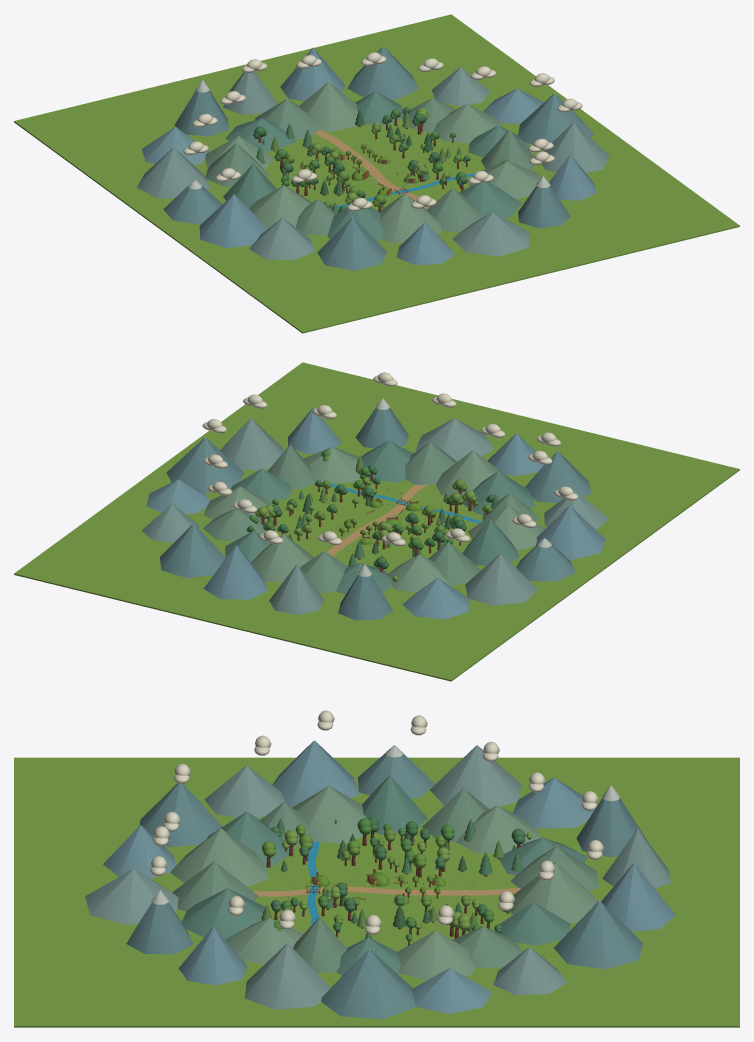
The model's file is valley.glb.
The picture shows the model from 3 angles, top to bottom: view 1: azimuth 30°, elevation 25°; view 2: azimuth 150°, elevation 25°; view 3: azimuth 270°, elevation 25°; orthographic projection. The views are drawn at different scales.
Size of the model in its own units: 210 by 34.12 by 240.
